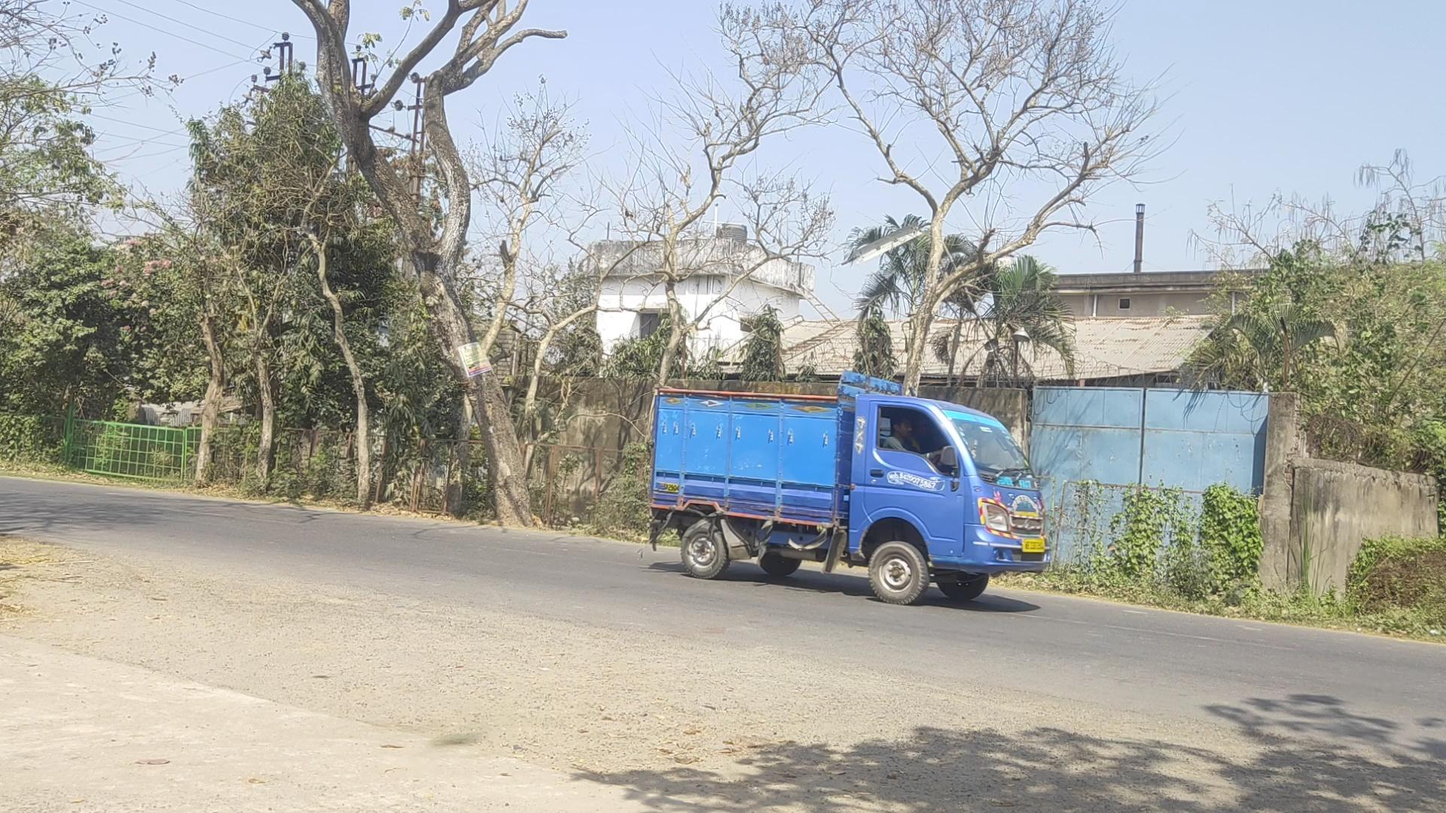van: (648, 369, 1051, 604)
